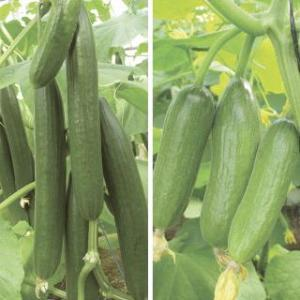cucumber: (223, 114, 299, 266), (96, 92, 148, 300), (201, 76, 263, 248), (153, 82, 215, 232), (66, 1, 103, 223), (32, 76, 68, 278), (24, 1, 82, 87), (0, 82, 34, 224), (0, 116, 26, 228)
